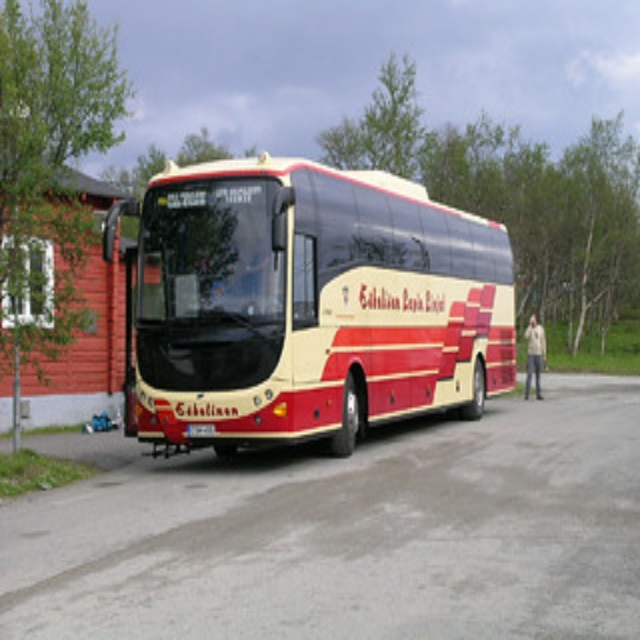Bus: (100, 149, 518, 456)
